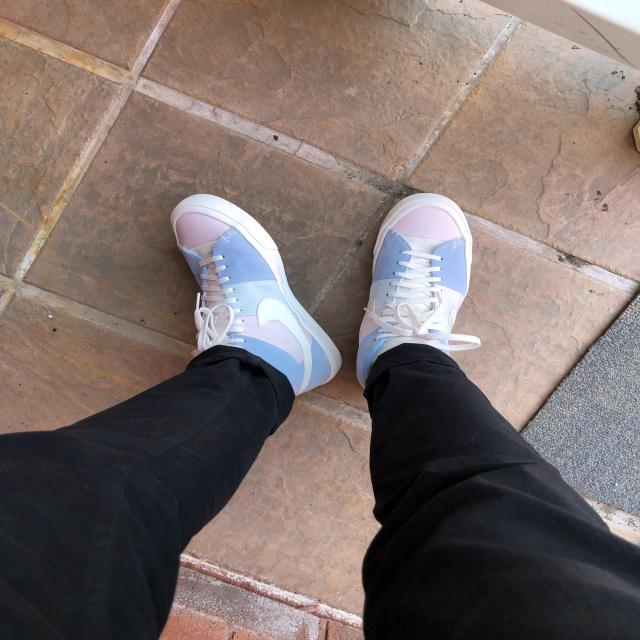shoe: (138, 183, 354, 411), (358, 181, 523, 430)
